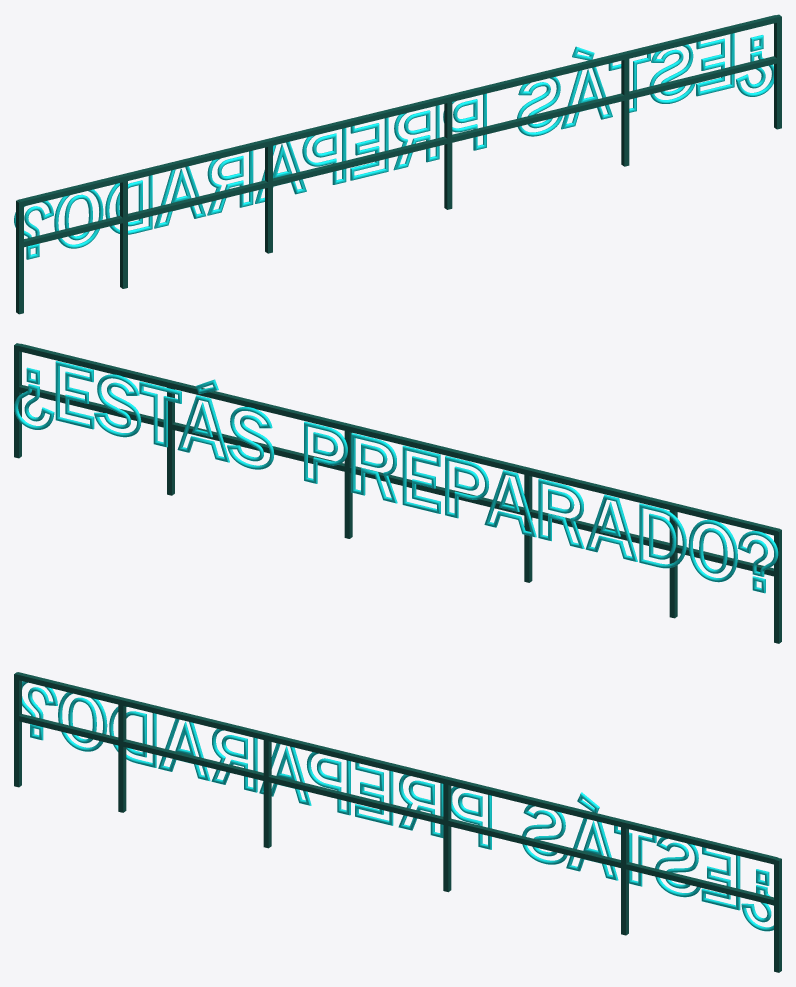
Rendered from Texto_oficina.FBX.
3 views of the same model, one above another, from view 1: azimuth 30°, elevation 25°; view 2: azimuth 150°, elevation 25°; view 3: azimuth 330°, elevation 25° (orthographic).
Visible parts, largest first — view 1: Estructura_Texto, Texto_Oficina; view 2: Texto_Oficina, Estructura_Texto; view 3: Estructura_Texto, Texto_Oficina.
Boxes of the visible parts, x1,y1,x2,y2 form: Estructura_Texto: [16, 14, 781, 314]; Texto_Oficina: [14, 33, 773, 259]; Texto_Oficina: [14, 361, 778, 593]; Estructura_Texto: [14, 343, 781, 643]; Estructura_Texto: [14, 672, 781, 972]; Texto_Oficina: [22, 681, 773, 931].
Bounding box in the file's own units: 213 × 33.99 × 2.6.
